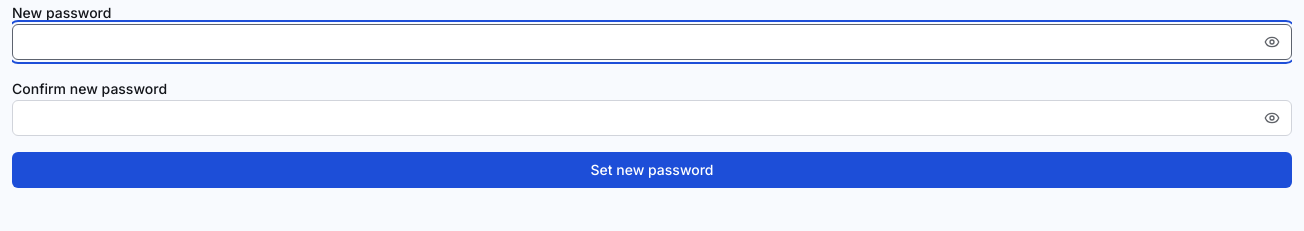
it: ChangePasswordForm › rejects mismatched passwords before submitting
The width and height of the screenshot is (1304, 231).
Type "0123456789" into the password field labelled "New password". click: point(652, 42)
box: x1=12 y1=24 x2=1292 y2=60
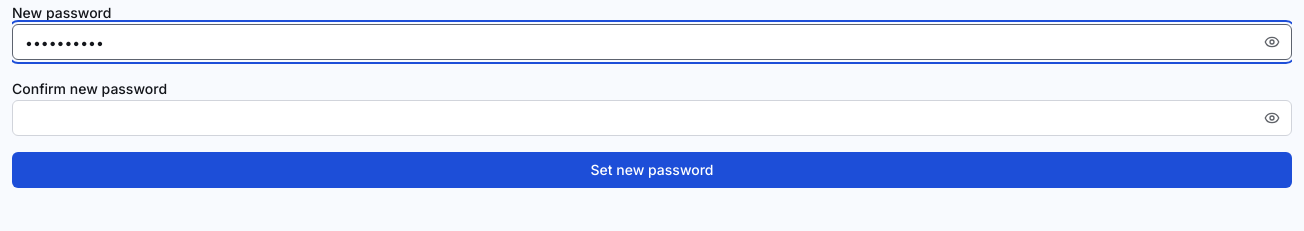
Type "nine876543" into the password field labelled "Confirm new password". click: point(652, 118)
box: x1=12 y1=100 x2=1292 y2=136
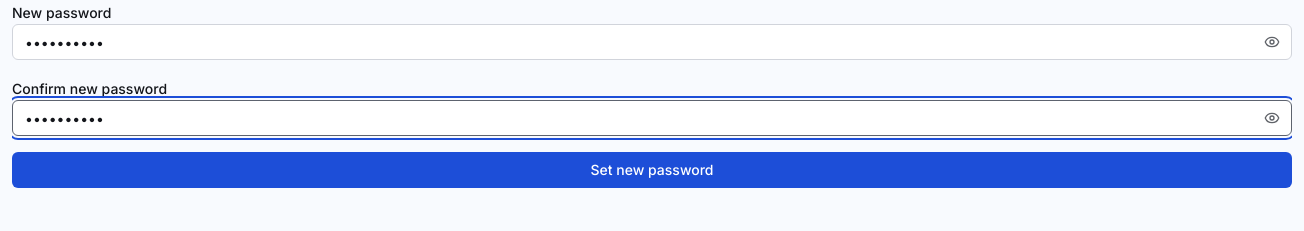
Click the button "Set new password". click: point(652, 170)
box: x1=12 y1=152 x2=1292 y2=188
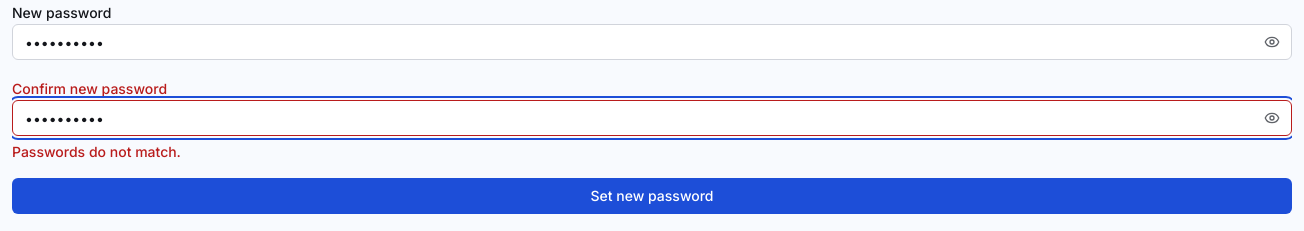
Result: the text "Passwords do not match." is shown at x1=12 y1=143 x2=180 y2=160
